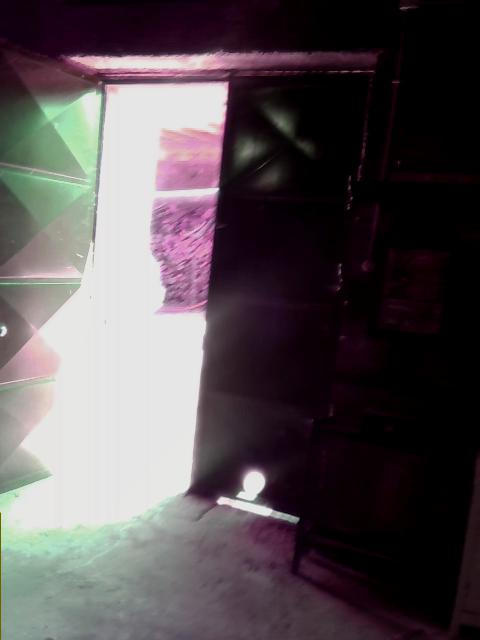open_door: (55, 71, 233, 481)
